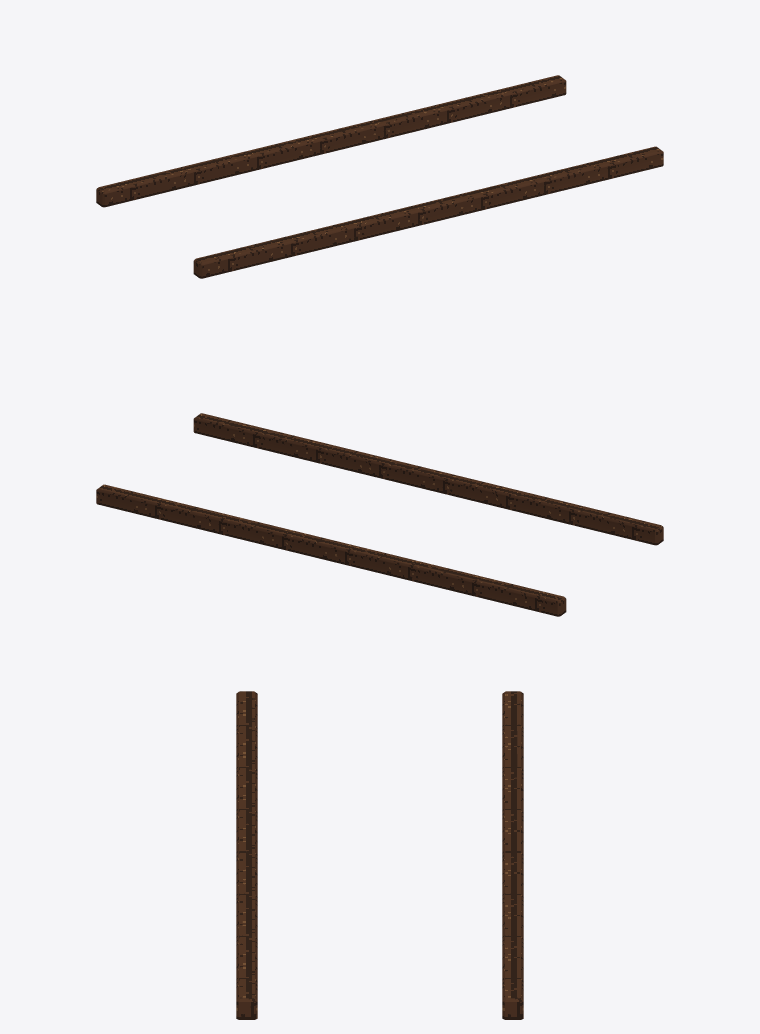
Rendered from dgn.ceiling__flat_3x3.glb.
3 views of the same model, one above another, from view 1: azimuth 30°, elevation 25°; view 2: azimuth 150°, elevation 25°; view 3: azimuth 270°, elevation 25° (orthographic). The views are drawn at different scales.
Visible parts, largest first — view 1: kit_beams; view 2: kit_beams; view 3: kit_beams.
Part boxes in pixels (box(x1,y1,x2,y2)): kit_beams: box(96, 75, 663, 278); kit_beams: box(96, 413, 663, 616); kit_beams: box(236, 691, 523, 1019).
Size of the model in its own units: 11 by 0.34 by 11.
Materials: 2 (2 with a texture image).
